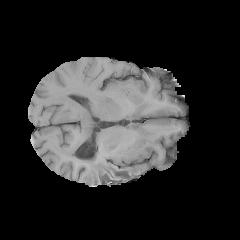glioma: (68, 151, 147, 180)
